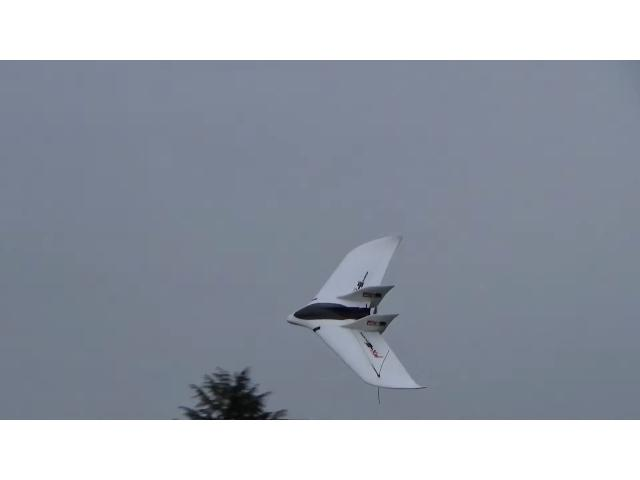Anti-Drone: (287, 235, 425, 388)
